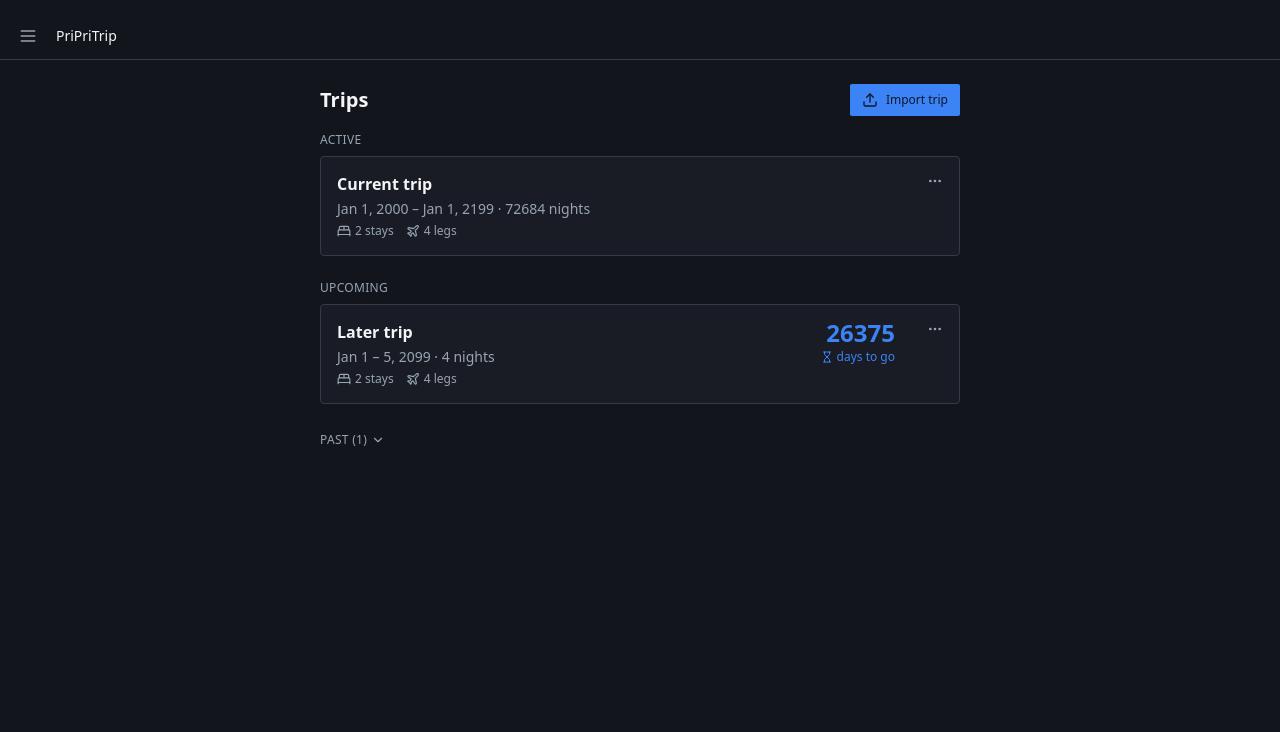
TripsPage › groups trips: active, then upcoming, then past (collapsed) at the bottom
Expected: the text "Current trip" is shown, [337, 173, 432, 195]
Expected: the text "Later trip" is shown, [337, 321, 413, 343]
Click the button "Past (1)".
click(353, 440)  # box [320, 428, 385, 452]
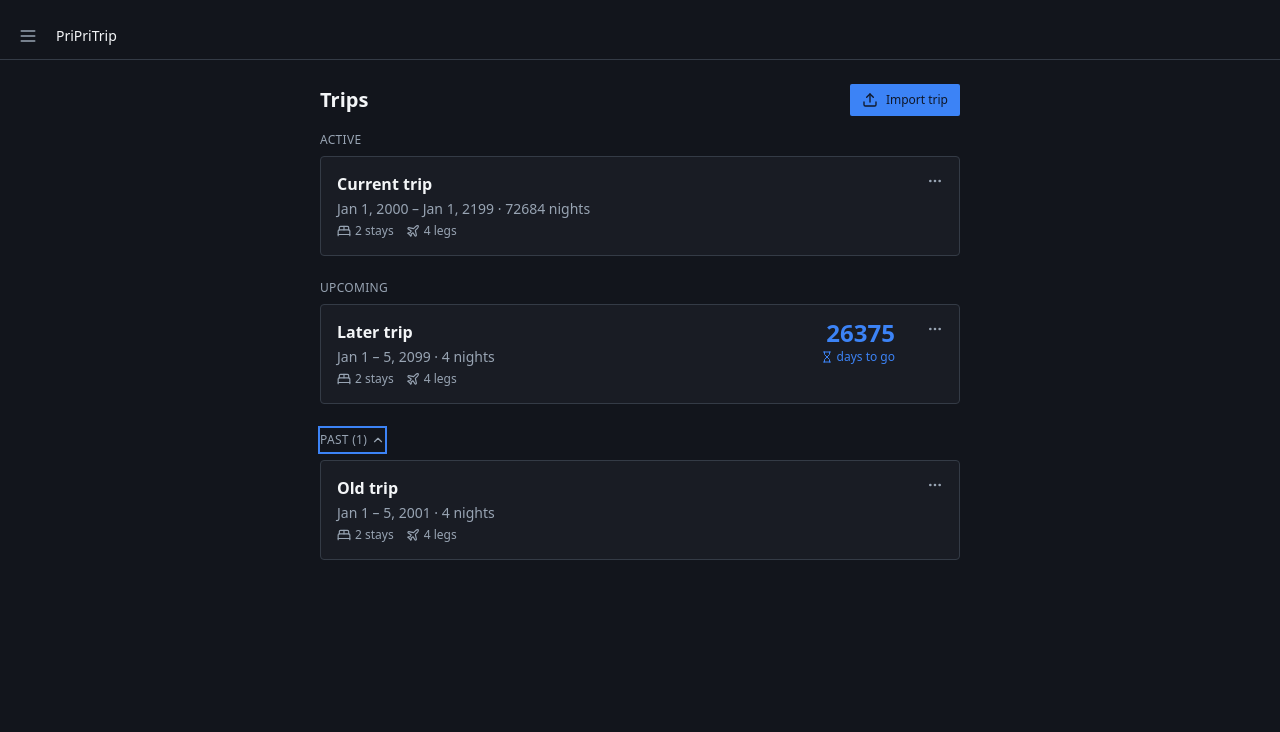
Expected: the text "Old trip" is shown, [337, 477, 398, 499]
